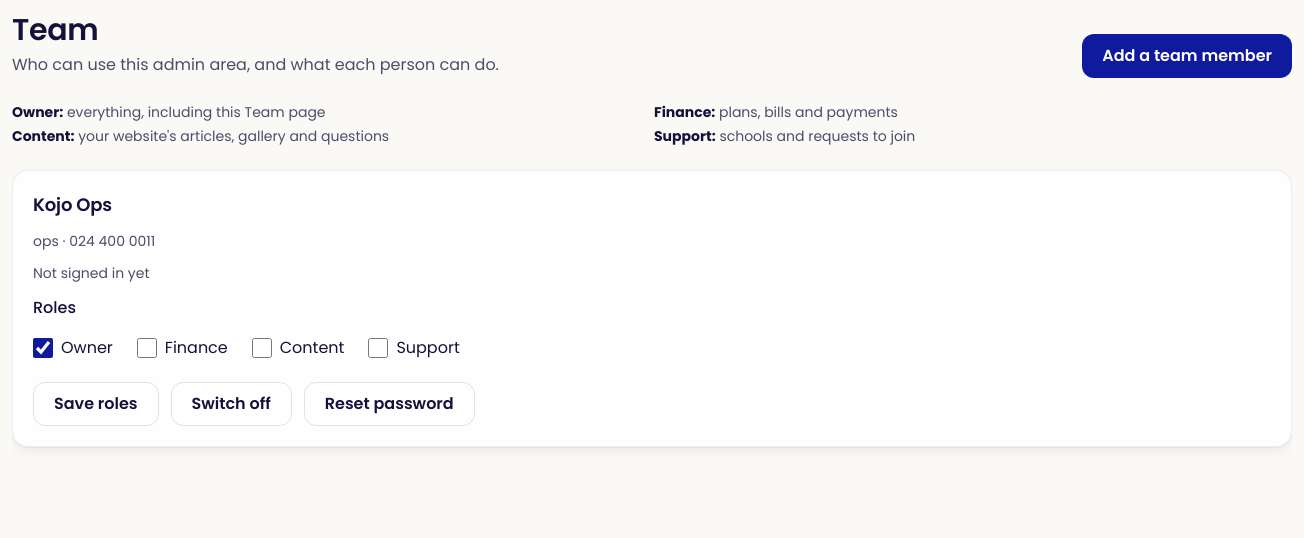
TeamView › shows the server's reason when the last Owner would be lost
Click the button "Switch off": (231, 404) [171, 382, 292, 426]
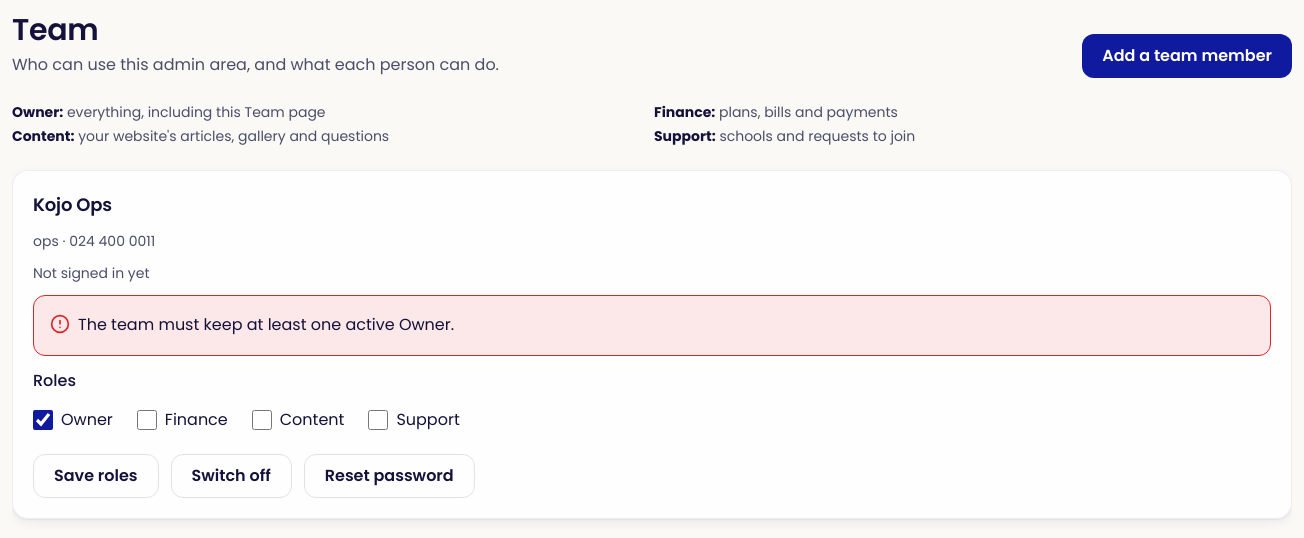
Check: the message shows "at least one active Owner", box [78, 313, 454, 336]
